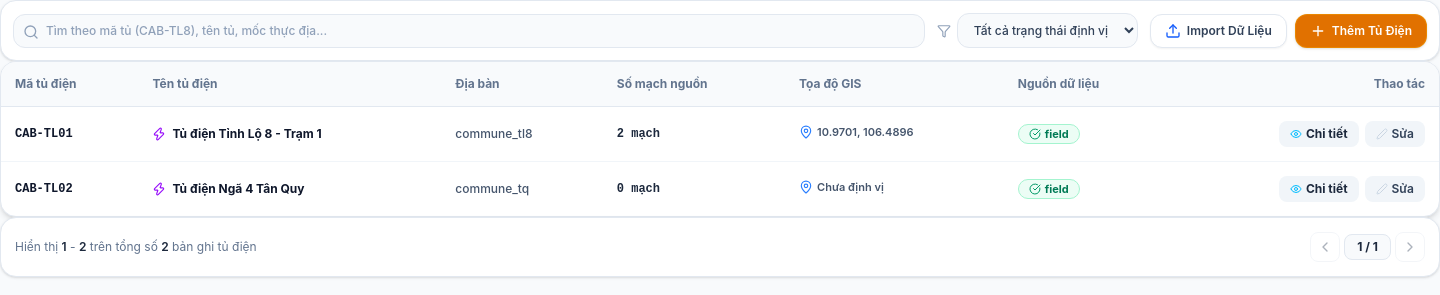
Test: CabinetsTab & Cabinet Components Test Suite (Task 2) › 1. Happy Path - Component Rendering & User Interactions › tìm kiếm theo mã tủ điện và cập nhật danh sách hiển thị
Type "CAB-TL01" into the field with placeholder "Tìm theo mã tủ (CAB-TL8), tên tủ, mốc thực địa..." at point(469, 30), box [13, 14, 925, 48]
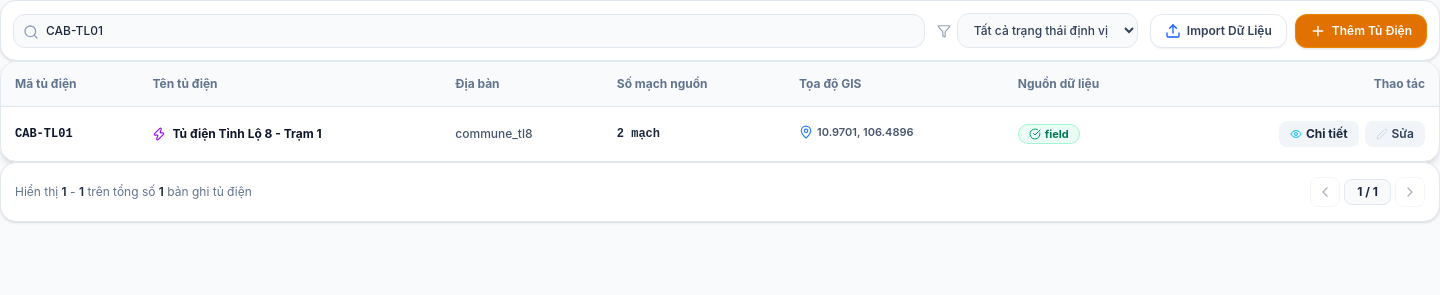
Check: the text "CAB-TL01" is shown, box [15, 127, 73, 141]
Check: the text "CAB-TL02" is gone
